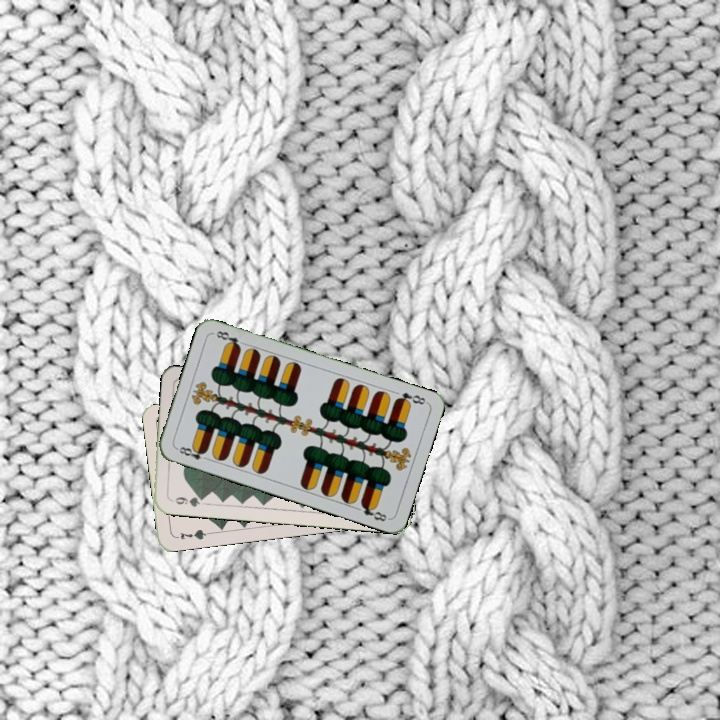E8: (172, 442, 212, 463), (391, 388, 429, 408)
G7: (172, 525, 212, 543)
G9: (166, 492, 207, 509)
